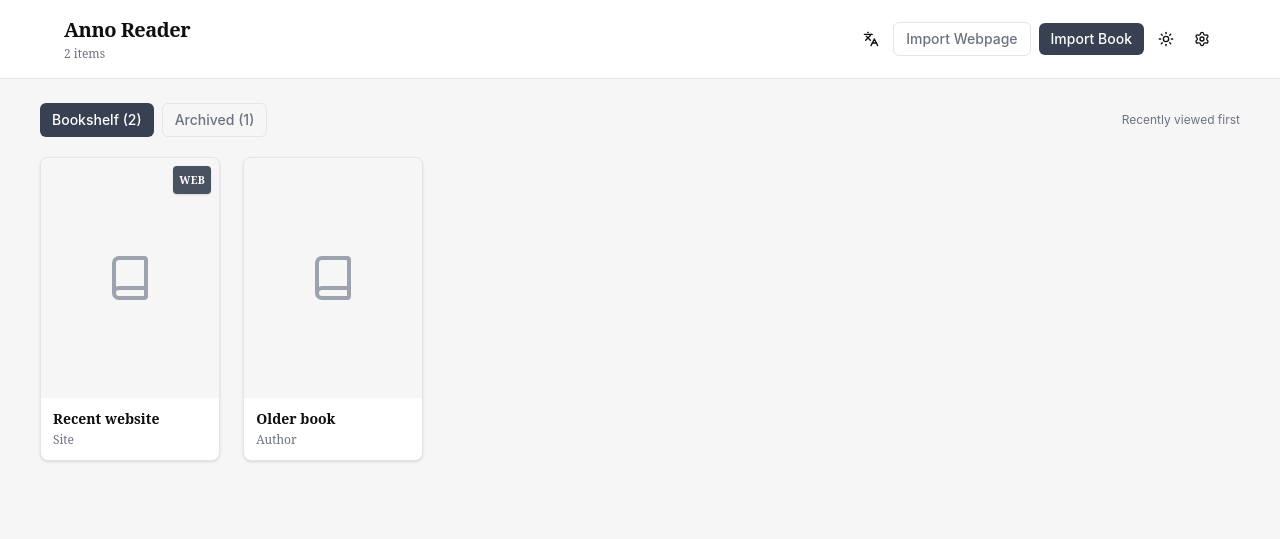
bookshelf recent order and archive › keeps an entry visible and displays an error when archiving fails
Right-click the button titled "Older book" at x=333, y=309, box x1=243 y1=157 x2=423 y2=460
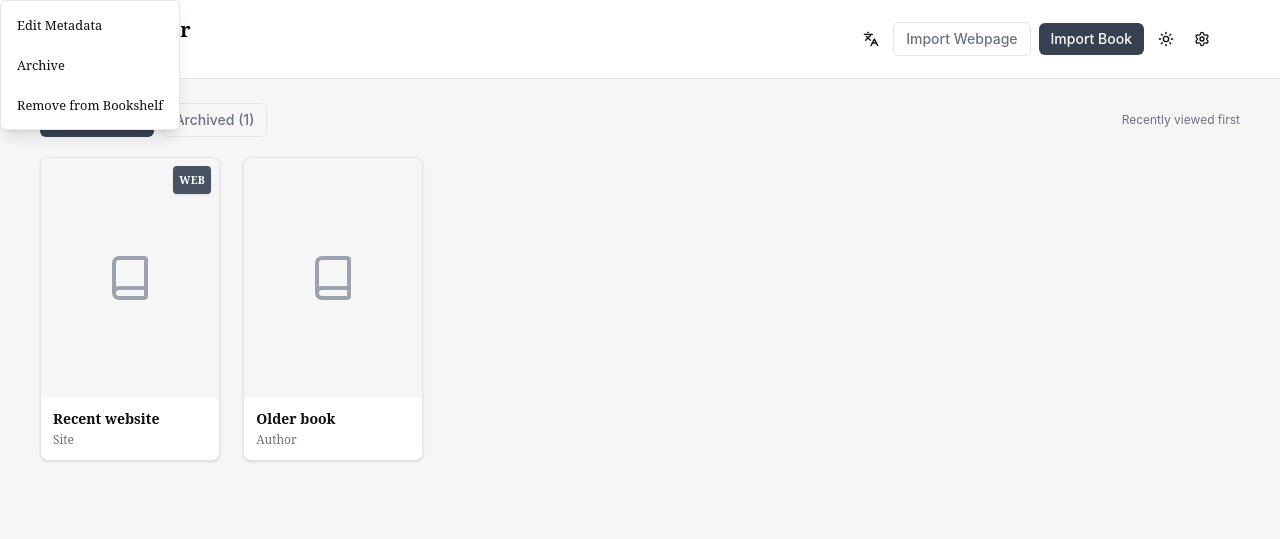
Click the button "Archive" at x=90, y=65, box x1=5 y1=45 x2=175 y2=85
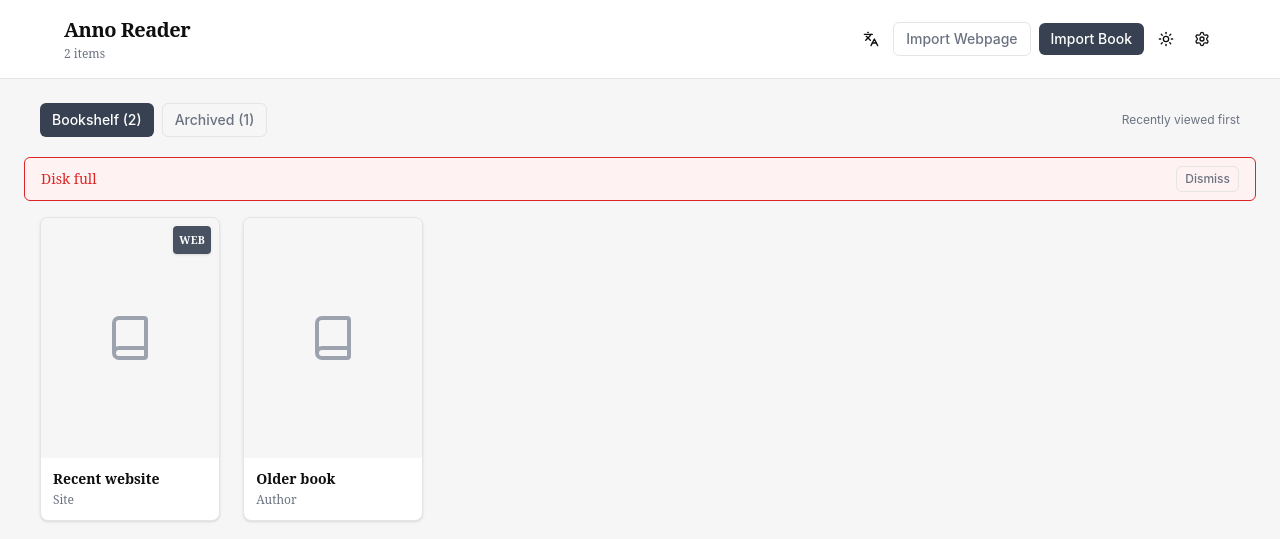
Expected: the heading titled "Older book" is shown, x1=256 y1=469 x2=336 y2=488
Now the text "Disk full" is shown, box x1=41 y1=169 x2=96 y2=189
